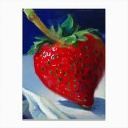strawberry: (33, 13, 106, 111)
